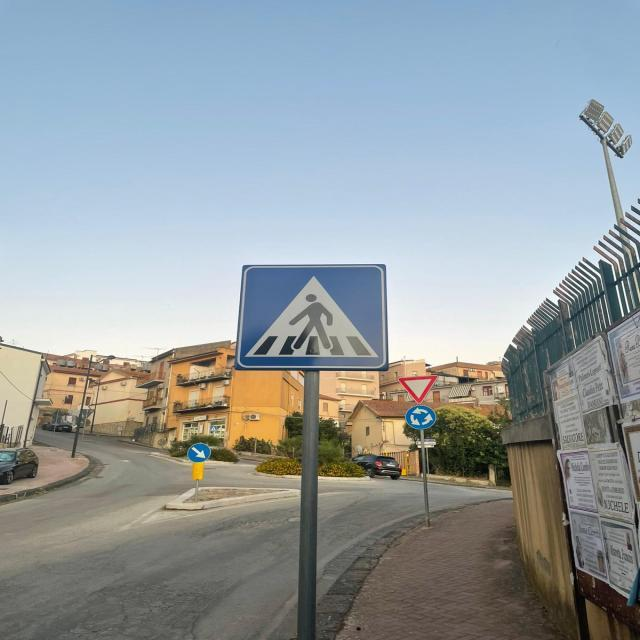info_crosswalk: (233, 262, 389, 372)
prio_give_way: (399, 376, 438, 404)
